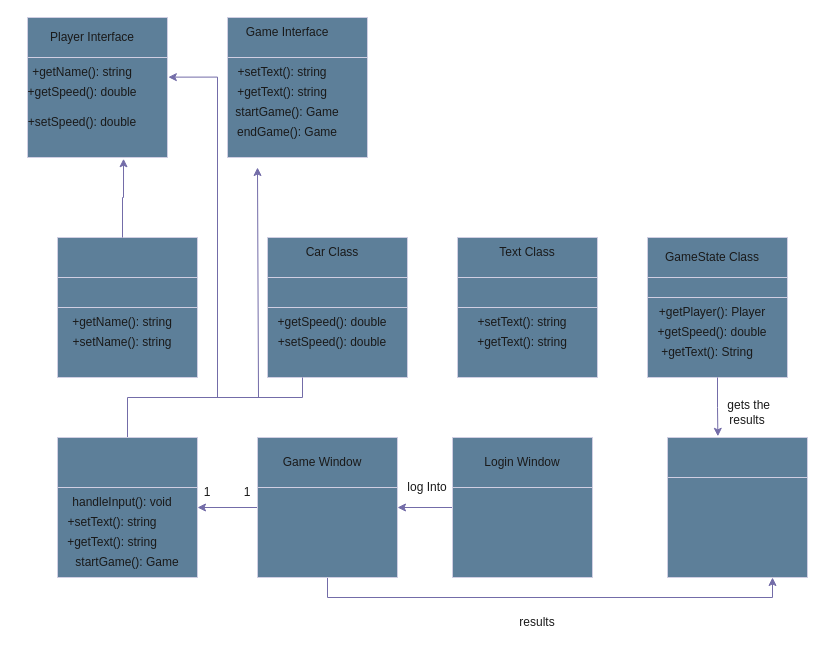
This 825x655 diagram has some shape labels left out. Here are the shapes that lost their labels. From the top down, the box of each, then its label:
(56, 236, 198, 278): Player Class
(56, 436, 198, 488): Game Class
(666, 436, 808, 478): Results Window
